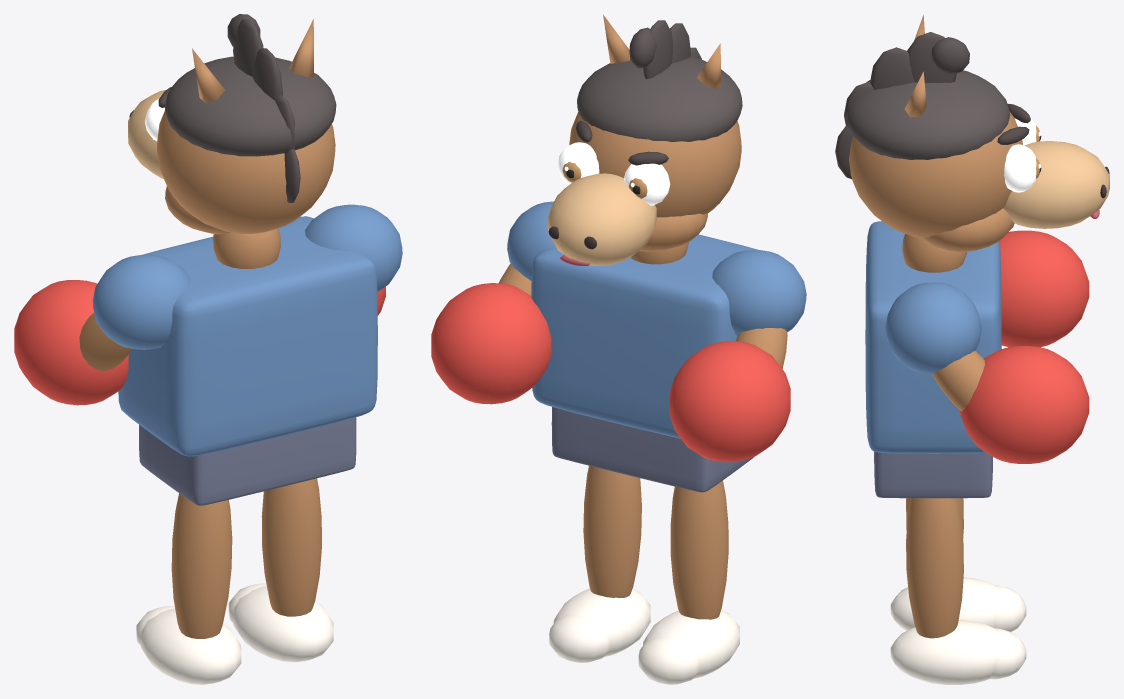
The model's file is Horse.glb.
3 renders of one model, left to right at view 1: azimuth 30°, elevation 25°; view 2: azimuth 150°, elevation 25°; view 3: azimuth 270°, elevation 25°, orthographic. The views are drawn at different scales.
Parts seen in each view (by area): view 1: CH4_torso, CH4_head, CH4_hair, CH4_hips, CH4_glove_L, CH4_leg_L, CH4_leg_R, CH4_shldr_L, CH4_shoe_L, CH4_shoe_R, CH4_shldr_R, CH4_neck (+8 smaller); view 2: CH4_torso, CH4_glove_L, CH4_glove_R, CH4_hair, CH4_hips, CH4_head, CH4_muzzle, CH4_leg_L, CH4_leg_R, CH4_shldr_L, CH4_shoe_L, CH4_shoe_R (+11 smaller); view 3: CH4_torso, CH4_glove_R, CH4_head, CH4_hair, CH4_glove_L, CH4_leg_R, CH4_shldr_R, CH4_shoe_R, CH4_muzzle, CH4_hips, CH4_shoe_L, CH4_jaw (+8 smaller).
Part boxes in pixels (x1,y1,x2,y2): CH4_torso: (118, 216, 377, 456); CH4_head: (157, 111, 335, 233); CH4_hair: (165, 56, 336, 156); CH4_hips: (139, 417, 356, 505); CH4_glove_L: (14, 280, 128, 405); CH4_leg_L: (171, 493, 232, 638); CH4_leg_R: (261, 478, 321, 616); CH4_shldr_L: (92, 254, 190, 349); CH4_shoe_L: (136, 606, 241, 684); CH4_shoe_R: (228, 583, 333, 662); CH4_shldr_R: (305, 204, 402, 291); CH4_neck: (213, 228, 280, 268); CH4_torso: (531, 234, 758, 438); CH4_glove_L: (669, 341, 790, 462); CH4_glove_R: (431, 283, 551, 404); CH4_hair: (577, 57, 742, 141); CH4_hips: (551, 407, 753, 492); CH4_head: (569, 112, 741, 217); CH4_muzzle: (548, 173, 656, 266); CH4_leg_L: (670, 480, 728, 619); CH4_leg_R: (583, 465, 641, 597); CH4_shldr_L: (712, 250, 806, 335); CH4_shoe_L: (638, 610, 739, 684); CH4_shoe_R: (549, 588, 650, 662); CH4_torso: (865, 221, 1001, 453); CH4_glove_R: (959, 346, 1089, 463); CH4_head: (849, 111, 1022, 238); CH4_hair: (845, 70, 1010, 159); CH4_glove_L: (1000, 230, 1089, 347); CH4_leg_R: (906, 498, 963, 638); CH4_shldr_R: (885, 282, 981, 374); CH4_shoe_R: (890, 620, 1026, 684); CH4_muzzle: (1003, 141, 1109, 228); CH4_hips: (874, 451, 992, 498); CH4_shoe_L: (890, 577, 1026, 631); CH4_jaw: (921, 208, 1014, 251).
Bounding box in the file's own units: 1.37 × 2.43 × 0.9658.
